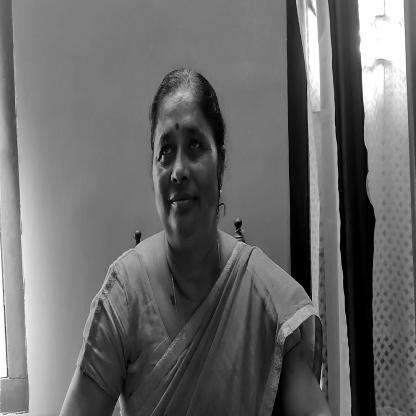Normal: (149, 67, 222, 250)
